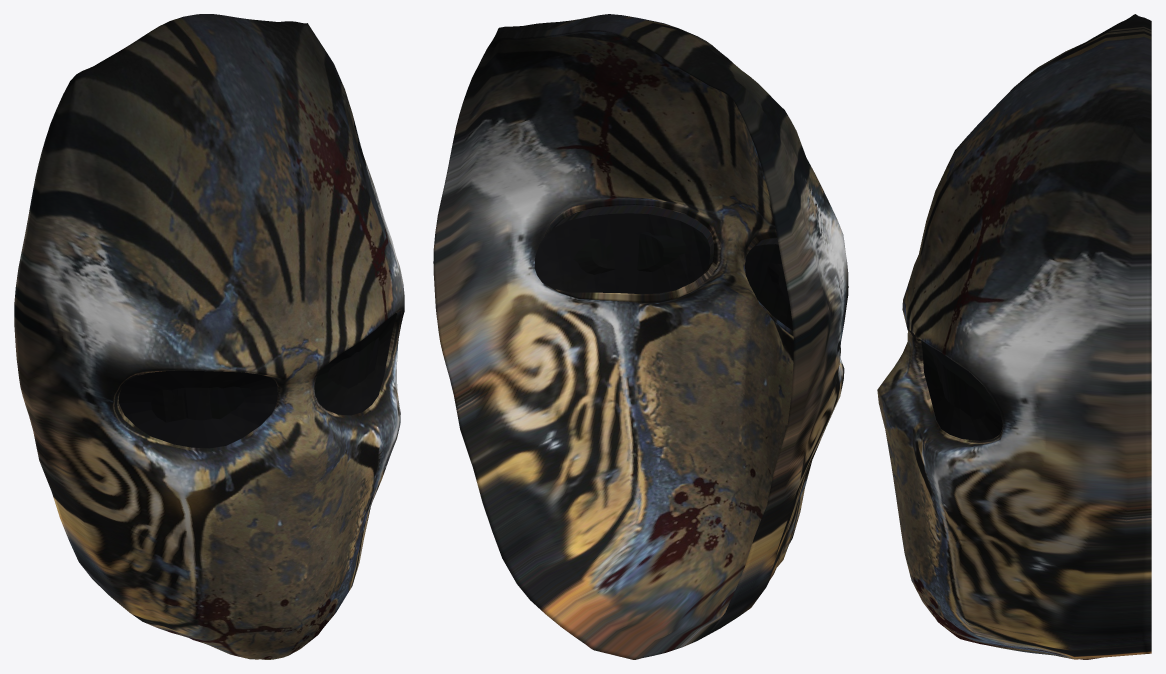
Rendered from metallic_mask_test.glb.
3 views of the same model, side by side, from view 1: azimuth 30°, elevation 25°; view 2: azimuth 150°, elevation 25°; view 3: azimuth 270°, elevation 25° (orthographic). The views are drawn at different scales.
Parts seen in each view (by area): view 1: Material_001-material, Material-material; view 2: Material_001-material, Material-material; view 3: Material_001-material, Material-material.
Part boxes in pixels (x1,y1,x2,y2): Material_001-material: (14,14,404,659); Material-material: (119,313,396,448); Material_001-material: (433,14,848,659); Material-material: (534,205,792,330); Material_001-material: (877,14,1151,659); Material-material: (921,340,1002,440).
Size of the model in its own units: 2.33 by 3.83 by 1.56.
2 materials, 2 textured.
